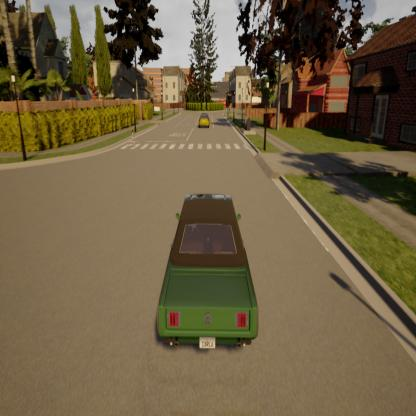Cars: (149, 188, 263, 364), (197, 110, 212, 129)
Pedestrian: (129, 128, 138, 151)
